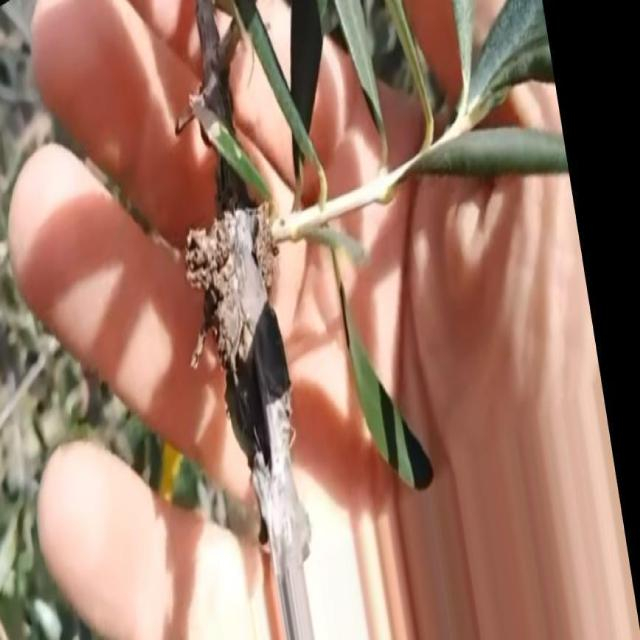Tuberculosis: (185, 211, 239, 373), (254, 202, 279, 298)
